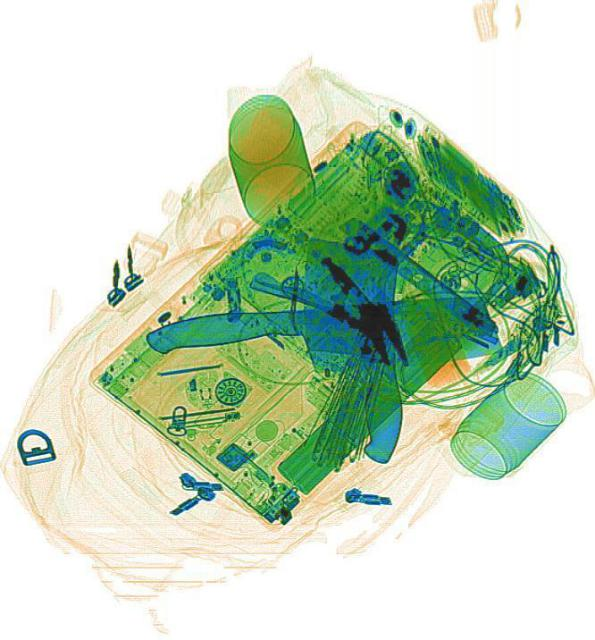Knife: (143, 292, 500, 383), (297, 237, 402, 461)
